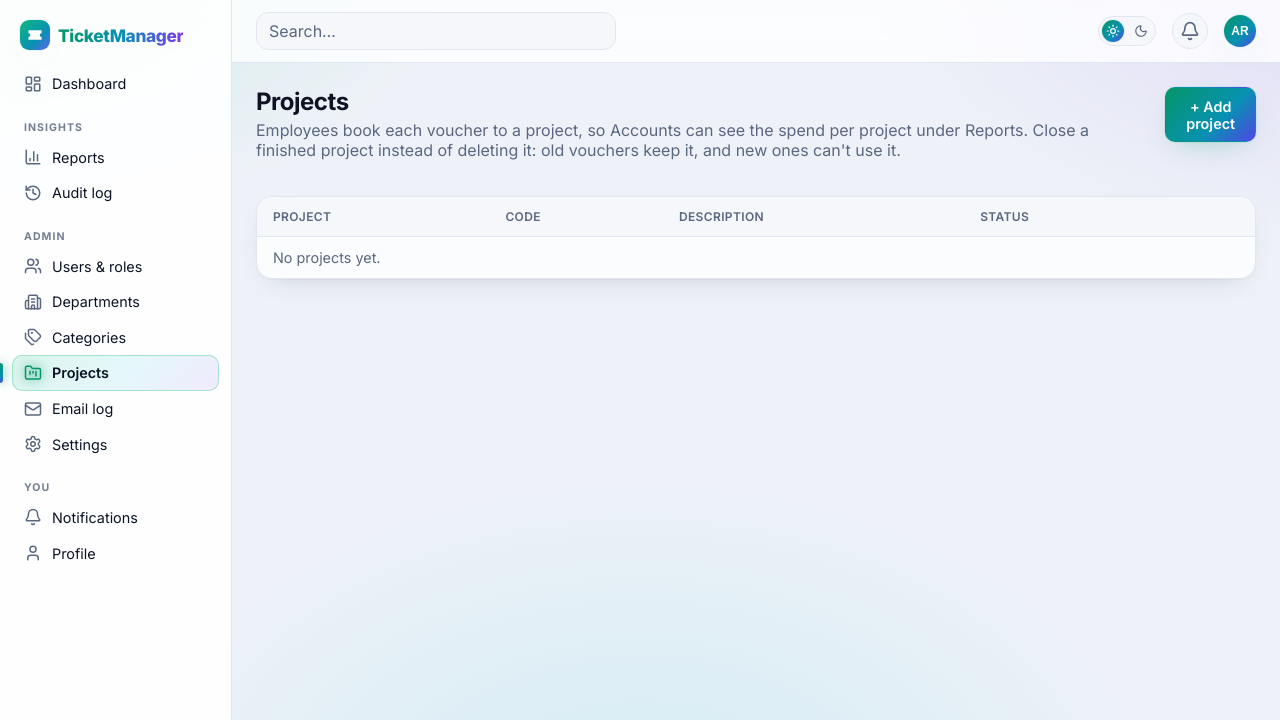
Test case: Projects › lets an admin add a project
The image size is (1280, 720).
Click the button "+ Add project": (1211, 115) [1165, 87, 1256, 142]
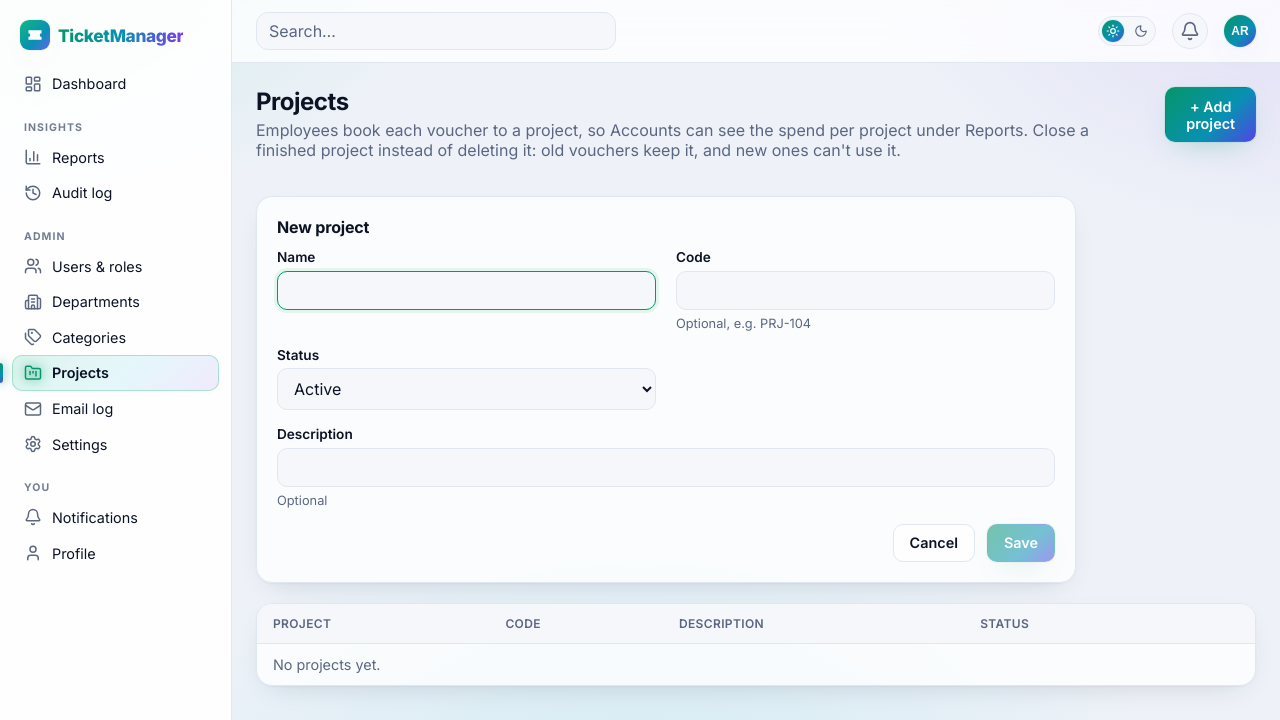
In the field labelled "Name": (466, 290) [277, 271, 656, 310], type "Mumbai Metro"
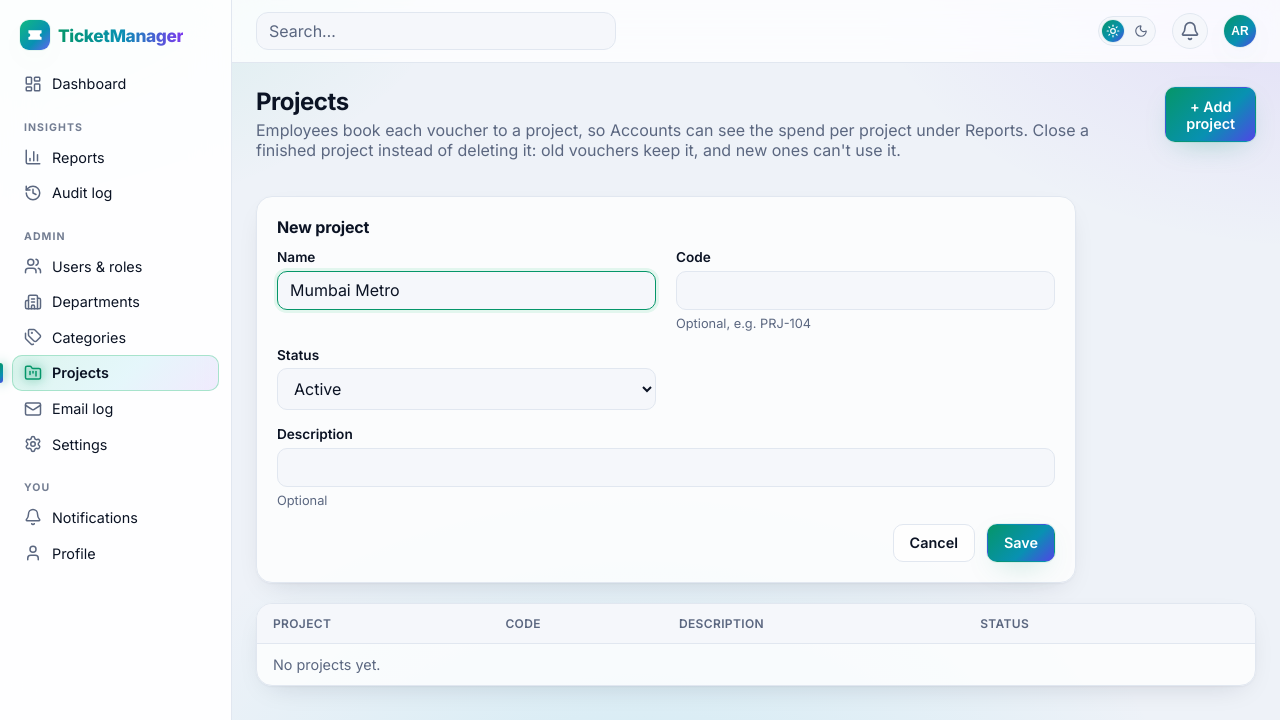
In the field labelled "Code": (866, 290) [676, 271, 1055, 310], type "PRJ-104"
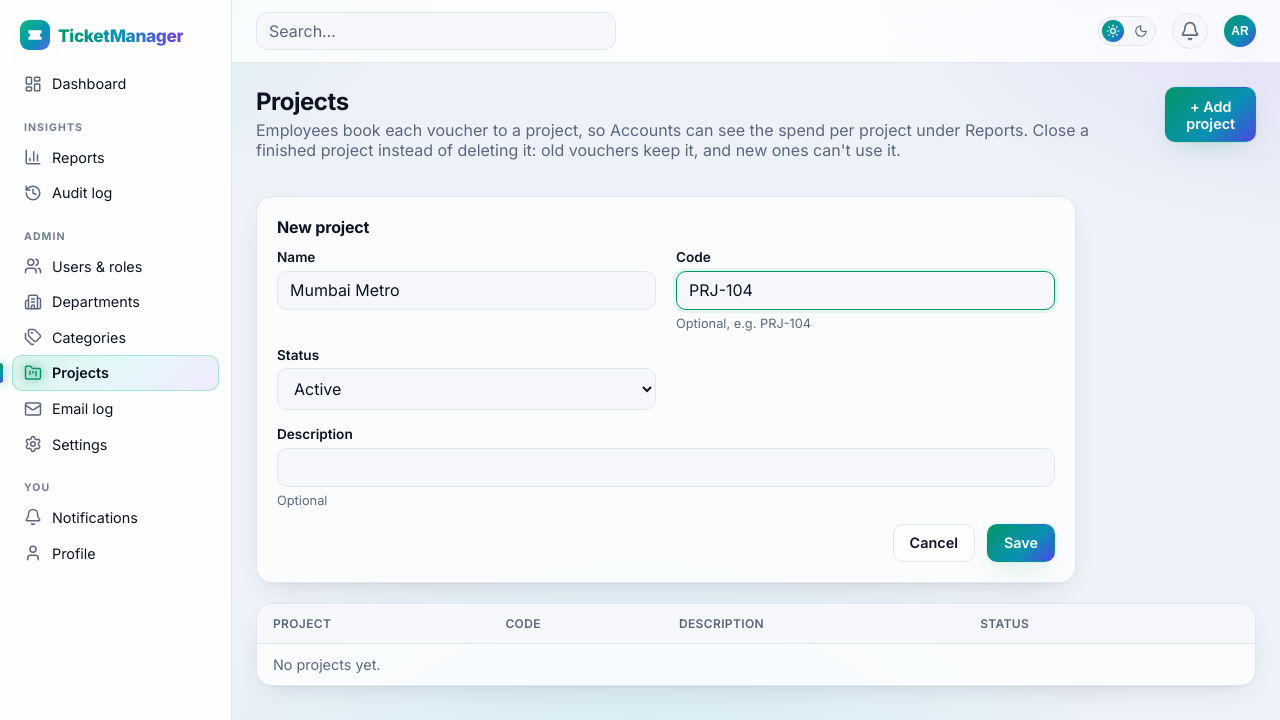
Click the button "Save": (1021, 543) [987, 524, 1055, 562]
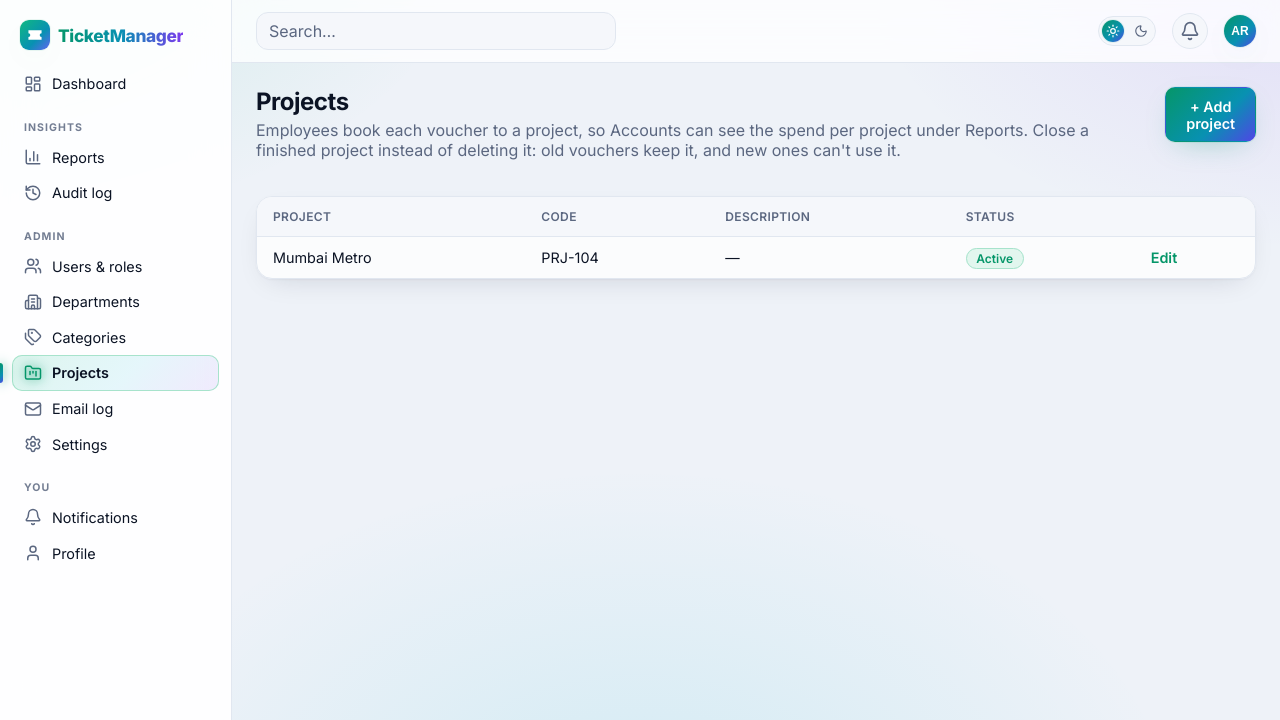
Expected: the cell "Mumbai Metro" is shown, [257, 236, 525, 278]
